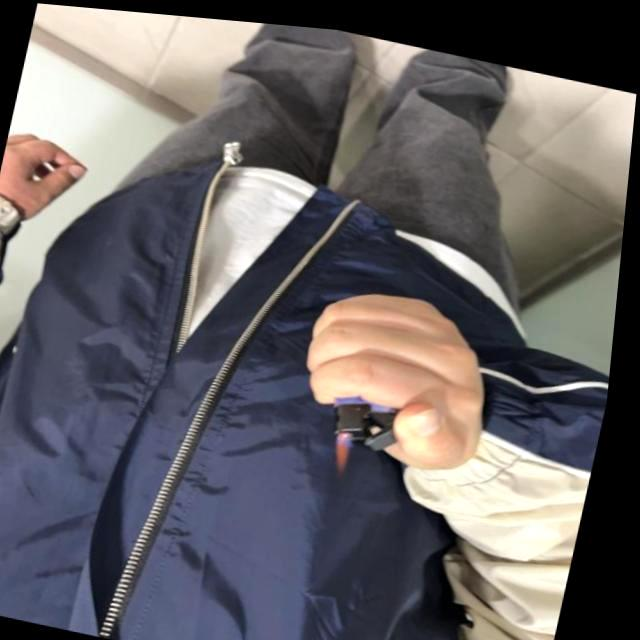fire: (338, 420, 362, 464)
